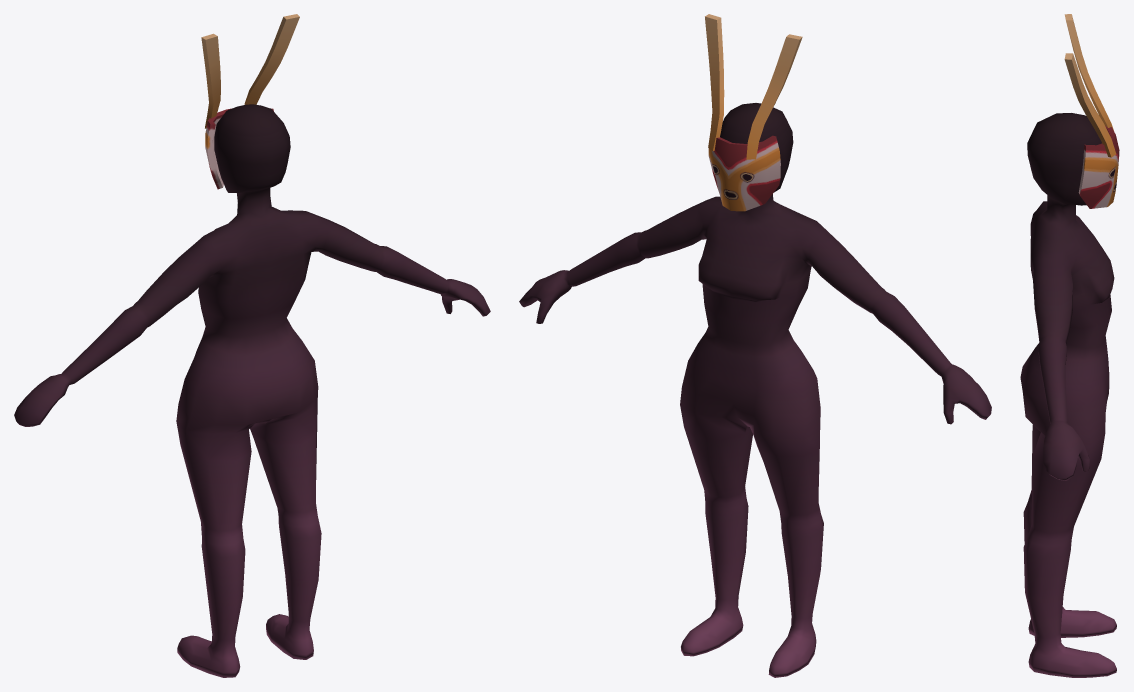
File: mesh_char_59.fbx
3 renders of one model, left to right at view 1: azimuth 30°, elevation 25°; view 2: azimuth 150°, elevation 25°; view 3: azimuth 270°, elevation 25°, orthographic. The views are drawn at different scales.
Parts seen in each view (by area): view 1: mesh_char_59; view 2: mesh_char_59; view 3: mesh_char_59.
Boxes of the visible parts, x1,y1,x2,y2 form: mesh_char_59: [14, 14, 490, 677]; mesh_char_59: [519, 14, 991, 677]; mesh_char_59: [1020, 14, 1119, 677].
Size of the model in its own units: 8.34 by 10.59 by 1.55.
1 material, 1 textured.
